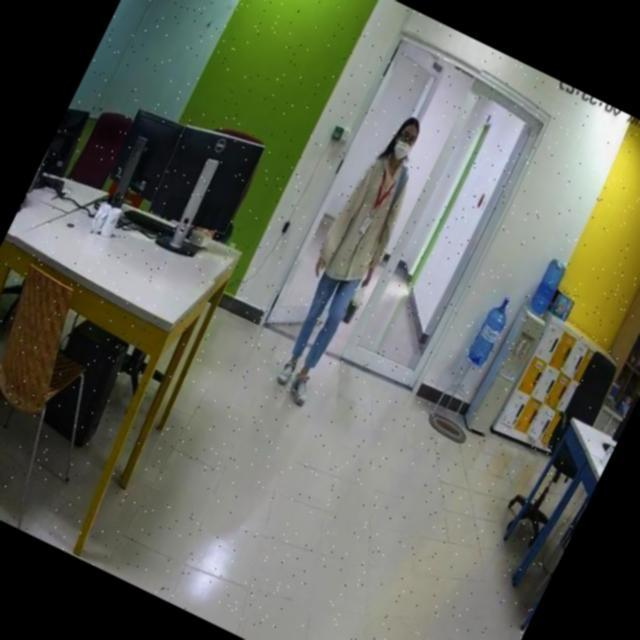person: (253, 104, 444, 408)
